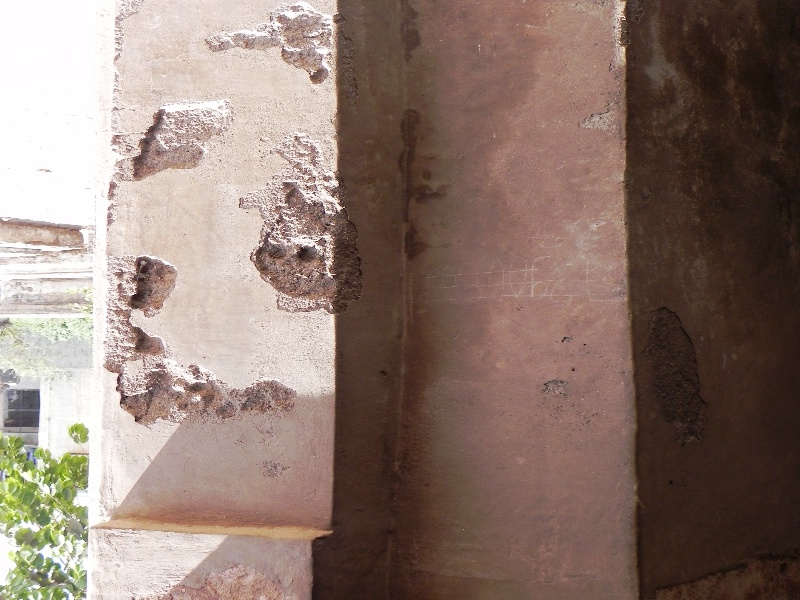Spalling: (103, 249, 287, 427), (244, 150, 363, 314), (643, 301, 713, 449), (208, 5, 343, 80), (130, 95, 225, 178), (392, 108, 433, 263)
